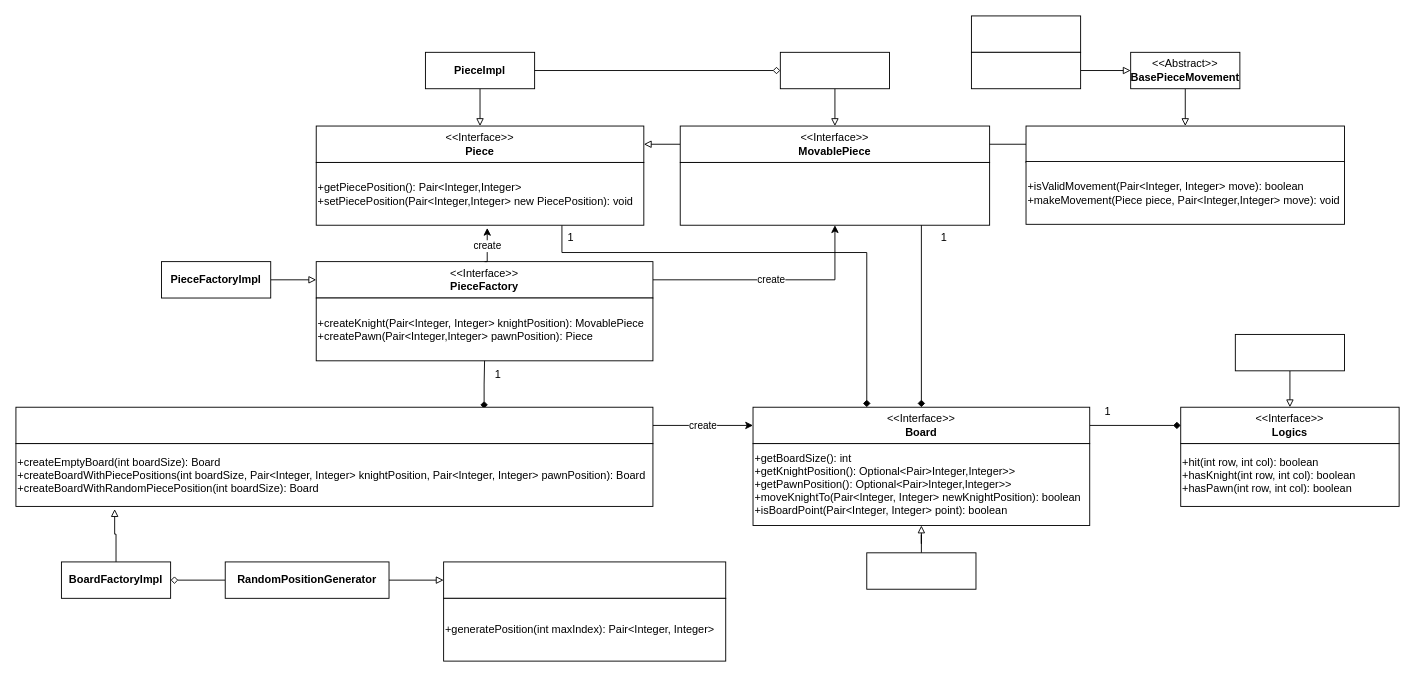
The diagram is 1415 pixels wide and 677 high, and some of its shapes have lost their labels. Here are the shapes that lost their labels. From the top down, the box of each, then its label:
(971, 15, 1081, 52): KnightMovement
(779, 51, 890, 89): MovablePieceImpl
(971, 51, 1081, 89): +isValidMovement
(1025, 125, 1345, 162): <<Interface>> Movement
(679, 162, 990, 225): +moveTo(Pair<Integer,Integer> new PiecePosition): boolean
(1234, 334, 1345, 371): LogicsImpl
(15, 406, 653, 444): <<Interface>> BoardFactory
(443, 561, 726, 598): <<Interface>> PositionGenerator
(866, 552, 976, 589): BoardImpl
